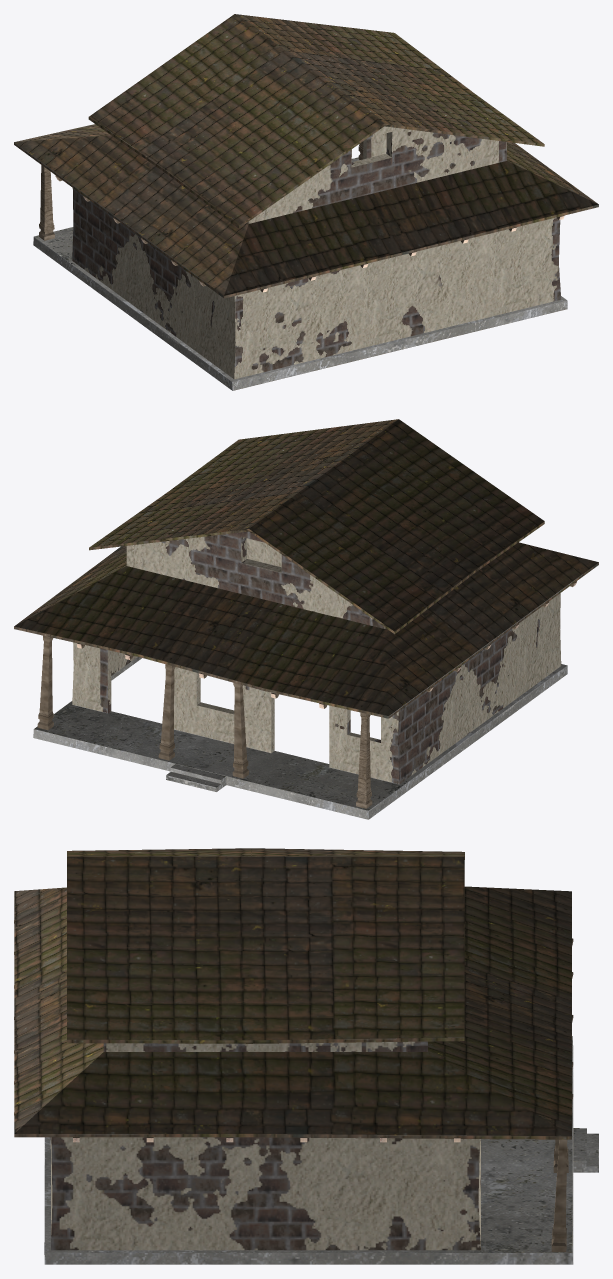
Rendered from indian_house_-_gameasset.obj.
3 renders of one model, top to bottom at view 1: azimuth 30°, elevation 25°; view 2: azimuth 150°, elevation 25°; view 3: azimuth 270°, elevation 25°, orthographic. The views are drawn at different scales.
Visible parts, largest first — view 1: obj1; view 2: obj1; view 3: obj1.
Boxes of the visible parts, bbox=[...] form: obj1: bbox=[14, 14, 598, 390]; obj1: bbox=[14, 419, 598, 819]; obj1: bbox=[14, 848, 598, 1264].
Size of the model in its own units: 8.96 by 5.06 by 9.11.
Materials: 1 (1 with a texture image).
